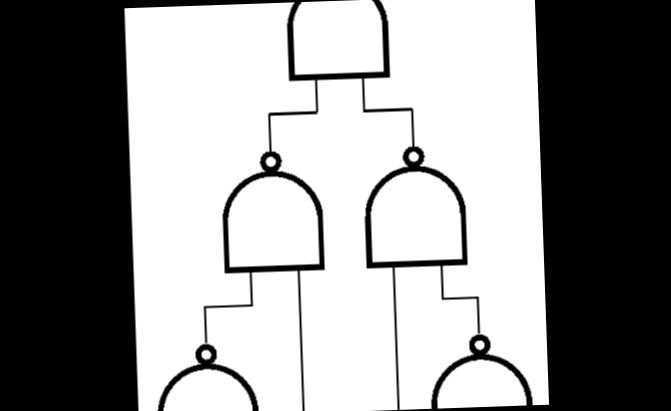nand: (353, 138, 472, 274), (213, 142, 329, 281), (418, 324, 538, 408), (280, 0, 394, 87), (149, 331, 261, 411)
